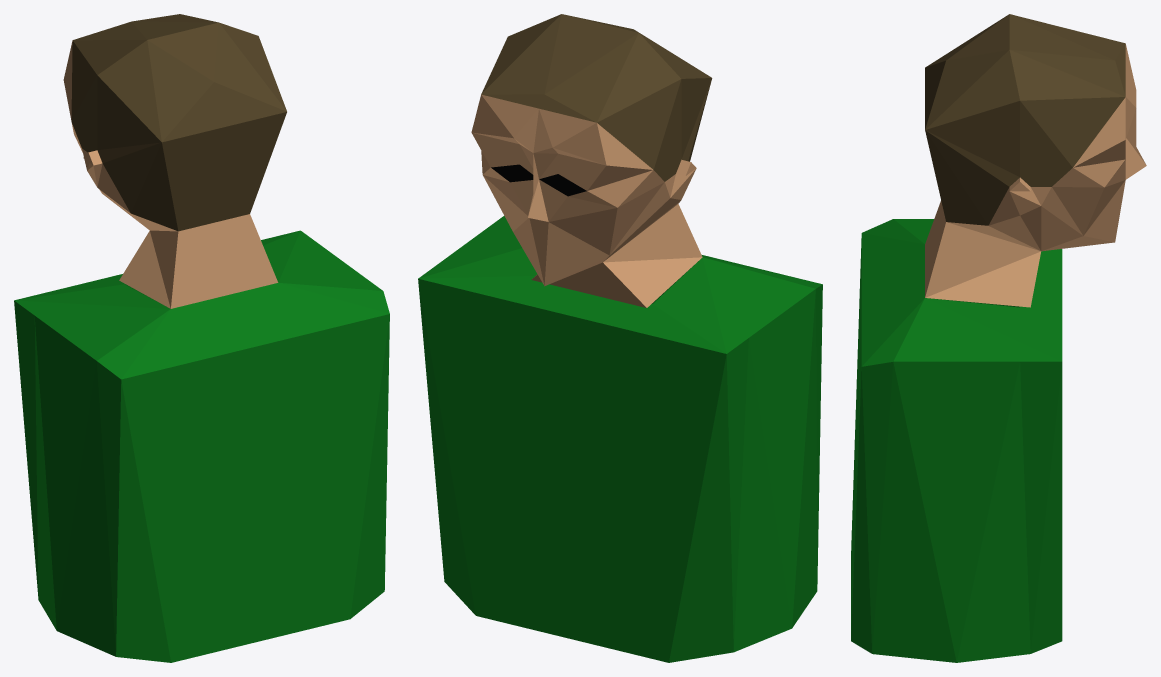
File: npc_world_wilough_0.obj
3 renders of one model, left to right at view 1: azimuth 30°, elevation 25°; view 2: azimuth 150°, elevation 25°; view 3: azimuth 270°, elevation 25°, orthographic. The views are drawn at different scales.
Bounding box in the file's own units: 0.2656 × 0.4609 × 0.2188.
